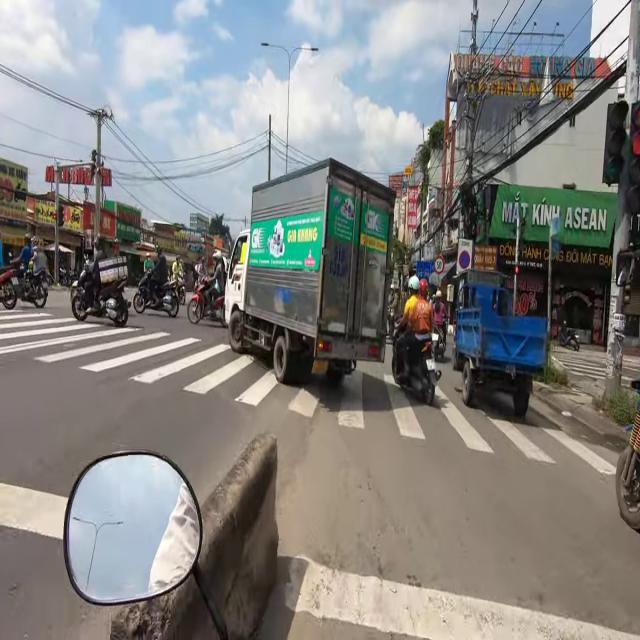bien_vang: (311, 358, 328, 376)
